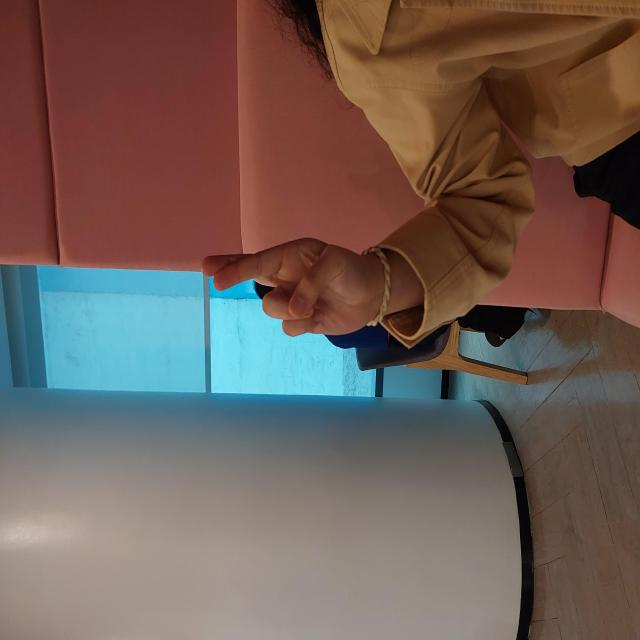R: (297, 196, 407, 388)
